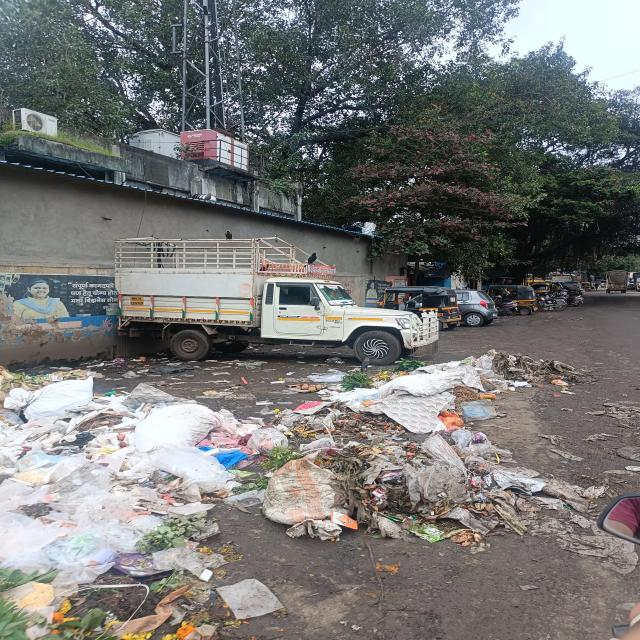garbage: (4, 370, 228, 636), (248, 358, 566, 541)
